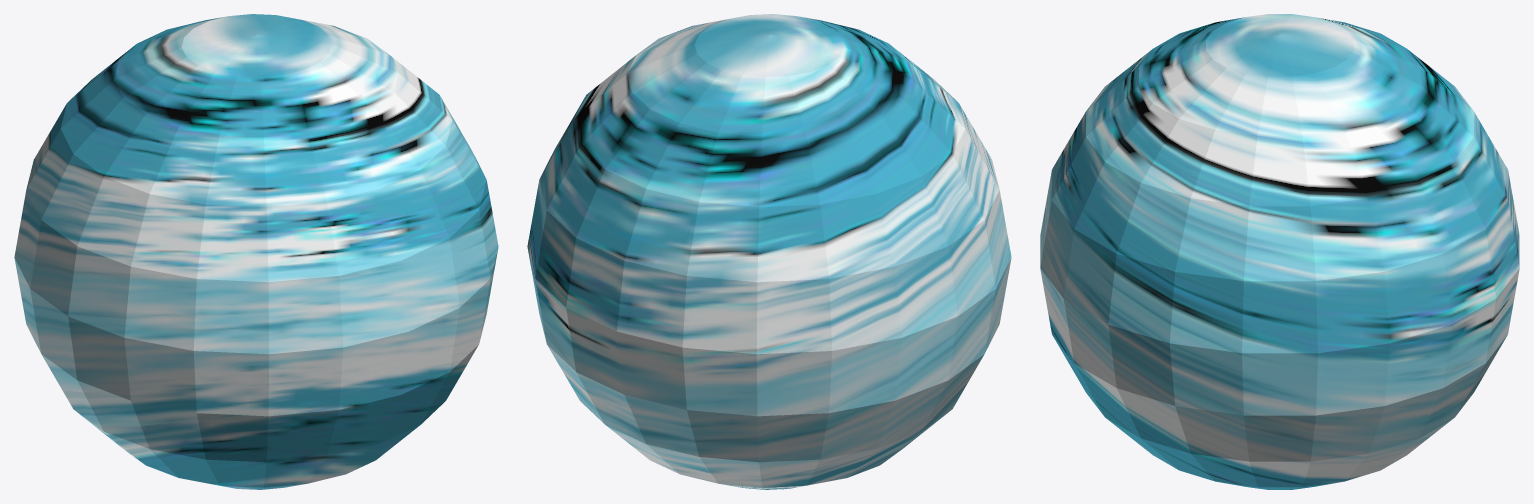
The model's file is chidori.obj.
The picture shows the model from 3 angles, left to right: view 1: azimuth 30°, elevation 25°; view 2: azimuth 150°, elevation 25°; view 3: azimuth 270°, elevation 25°; orthographic projection.
Parts seen in each view (by area): view 1: sphere; view 2: sphere; view 3: sphere.
Part boxes in pixels (left/top/right/bottom): sphere: left=14, top=14, right=498, bottom=489; sphere: left=527, top=14, right=1011, bottom=489; sphere: left=1040, top=14, right=1519, bottom=489.
Size of the model in its own units: 1.62 by 1.62 by 1.62.
